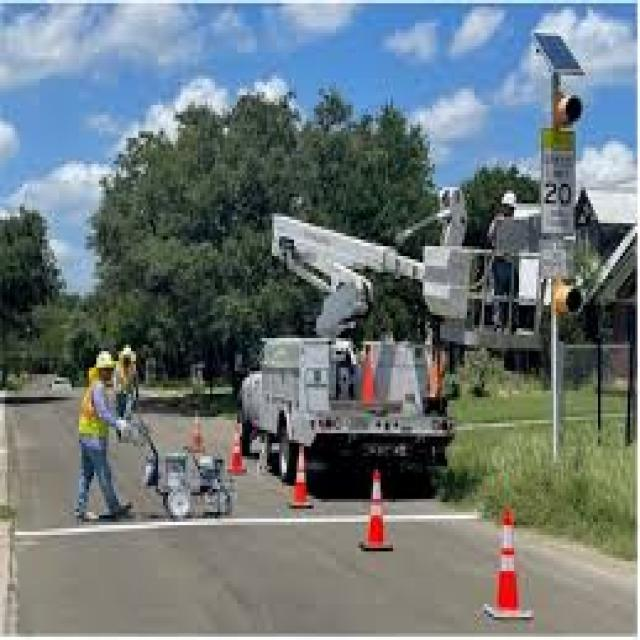speedLimit20: (538, 151, 574, 210)
